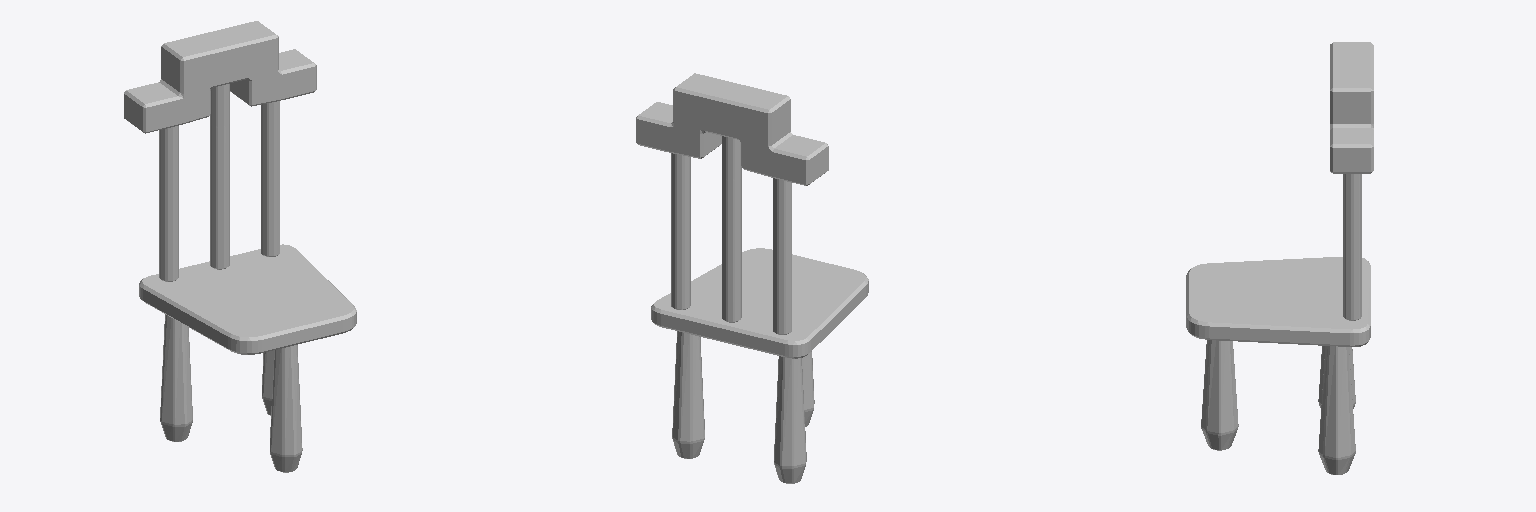
Rendered from chair object with uv.obj.
The picture shows the model from 3 angles: view 1: azimuth 30°, elevation 25°; view 2: azimuth 150°, elevation 25°; view 3: azimuth 270°, elevation 25°; orthographic projection.
Parts seen in each view (by area): view 1: seat, pCube1, back1, leg1, leg3, back3, back2, leg2; view 2: seat, pCube1, back1, leg3, leg2, back2, back3, leg1; view 3: seat, pCube1, leg2, leg1, back2.
Part boxes in pixels (x1,y1,x2,y2): seat: (139, 244, 356, 354); pCube1: (124, 21, 316, 133); back1: (210, 84, 229, 269); leg1: (270, 345, 302, 472); leg3: (160, 314, 192, 441); back3: (159, 126, 178, 281); back2: (261, 101, 279, 256); leg2: (262, 350, 273, 415); seat: (651, 248, 868, 358); pCube1: (636, 73, 828, 185); back1: (722, 136, 741, 322); leg3: (774, 356, 806, 483); leg2: (672, 331, 704, 458); back2: (671, 153, 690, 309); back3: (773, 178, 791, 334); leg1: (802, 351, 814, 426); seat: (1186, 257, 1370, 346); pCube1: (1330, 42, 1373, 173); leg2: (1318, 346, 1355, 474); leg1: (1201, 340, 1238, 450); back2: (1343, 174, 1361, 320).
Bounding box in the file's own units: 6.85 × 14.35 × 6.38.